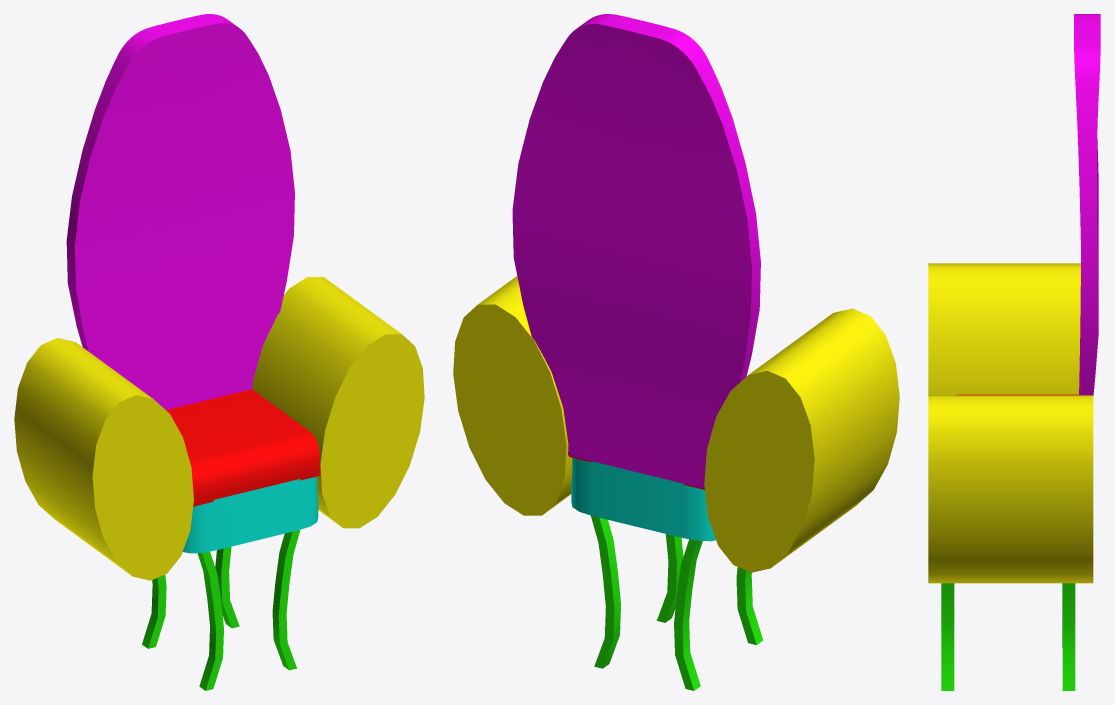
Rendered from umgebung_jimmy_sessel_low.FBX.
The picture shows the model from 3 angles, left to right: view 1: azimuth 30°, elevation 25°; view 2: azimuth 150°, elevation 25°; view 3: azimuth 270°, elevation 25°; orthographic projection. The views are drawn at different scales.
Parts seen in each view (by area): view 1: o_jimmy_sessel_rueckenlehne_low, o_jimmy_sessel_lehne_low, i_jimmy_sessel_lehne_low, o_jimmy_sessel_kissen_low, o_jimmy_sessel_sitzflaeche_low, i_jimmy_sessel_bein_low (×3), o_jimmy_sessel_bein_low; view 2: o_jimmy_sessel_rueckenlehne_low, o_jimmy_sessel_lehne_low, i_jimmy_sessel_lehne_low, o_jimmy_sessel_sitzflaeche_low, i_jimmy_sessel_bein_low (×3), o_jimmy_sessel_bein_low; view 3: i_jimmy_sessel_lehne_low, o_jimmy_sessel_lehne_low, o_jimmy_sessel_rueckenlehne_low, i_jimmy_sessel_bein_low (×2).
Part boxes in pixels (<box>): o_jimmy_sessel_rueckenlehne_low: <box>66,14,294,409</box>; o_jimmy_sessel_lehne_low: <box>14,338,193,580</box>; i_jimmy_sessel_lehne_low: <box>252,277,424,528</box>; o_jimmy_sessel_kissen_low: <box>166,389,320,506</box>; o_jimmy_sessel_sitzflaeche_low: <box>182,476,318,553</box>; i_jimmy_sessel_bein_low (×3): <box>142,530,300,670</box>; o_jimmy_sessel_bein_low: <box>197,551,223,690</box>; o_jimmy_sessel_rueckenlehne_low: <box>512,14,760,488</box>; o_jimmy_sessel_lehne_low: <box>704,308,899,572</box>; i_jimmy_sessel_lehne_low: <box>453,276,572,515</box>; o_jimmy_sessel_sitzflaeche_low: <box>571,458,715,541</box>; i_jimmy_sessel_bein_low (×3): <box>590,515,702,690</box>; o_jimmy_sessel_bein_low: <box>736,567,762,644</box>; i_jimmy_sessel_lehne_low: <box>928,395,1093,583</box>; o_jimmy_sessel_lehne_low: <box>928,263,1080,395</box>; o_jimmy_sessel_rueckenlehne_low: <box>1074,14,1100,395</box>; i_jimmy_sessel_bein_low (×2): <box>941,583,1075,690</box>.
Size of the model in its own units: 1809 by 3141 by 772.
